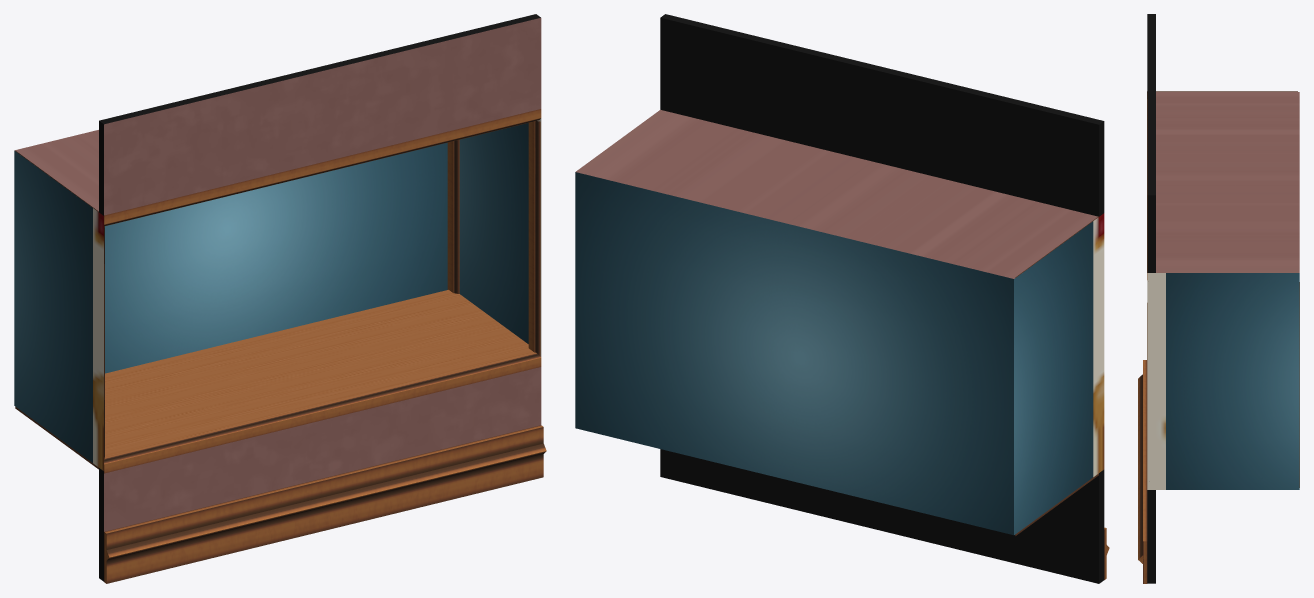
The model's file is Wall_Window_Display_B_05.FBX.
3 renders of one model, left to right at view 1: azimuth 30°, elevation 25°; view 2: azimuth 150°, elevation 25°; view 3: azimuth 270°, elevation 25°, orthographic. The views are drawn at different scales.
Parts seen in each view (by area): view 1: Wall_Window DisplayB; view 2: Wall_Window DisplayB; view 3: Wall_Window DisplayB.
Boxes of the visible parts, left/top/right/bottom form: Wall_Window DisplayB: left=14, top=14, right=546, bottom=583; Wall_Window DisplayB: left=575, top=14, right=1109, bottom=583; Wall_Window DisplayB: left=1138, top=14, right=1299, bottom=583.
Bounding box in the file's own units: 500 × 500 × 189.
